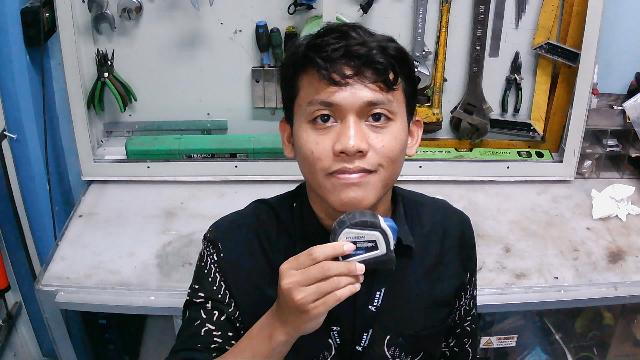meteran: (325, 203, 402, 283)
